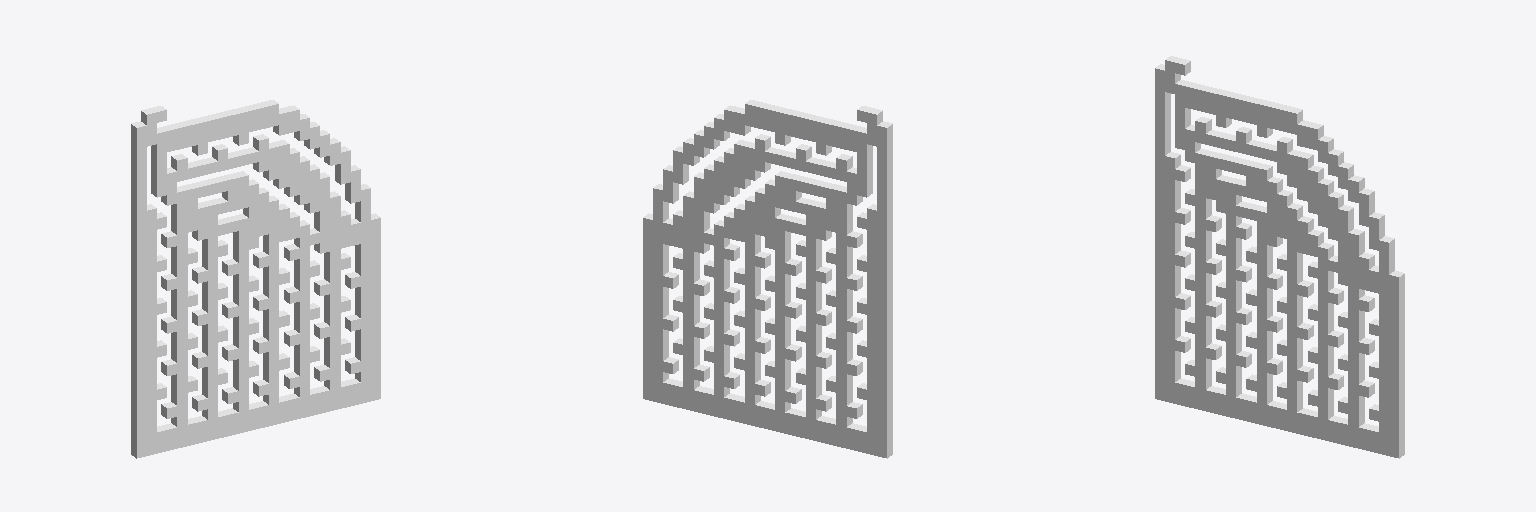
The model's file is gate.obj.
The picture shows the model from 3 angles: view 1: azimuth 30°, elevation 25°; view 2: azimuth 150°, elevation 25°; view 3: azimuth 330°, elevation 25°; orthographic projection.
Size of the model in its own units: 24 by 32 by 1.